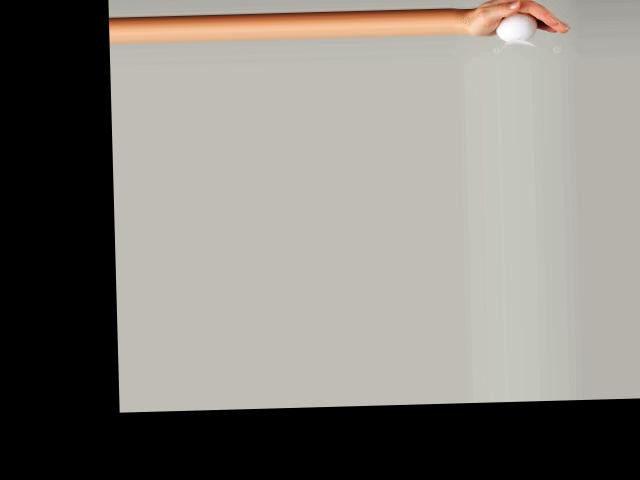egg: (495, 12, 538, 41)
